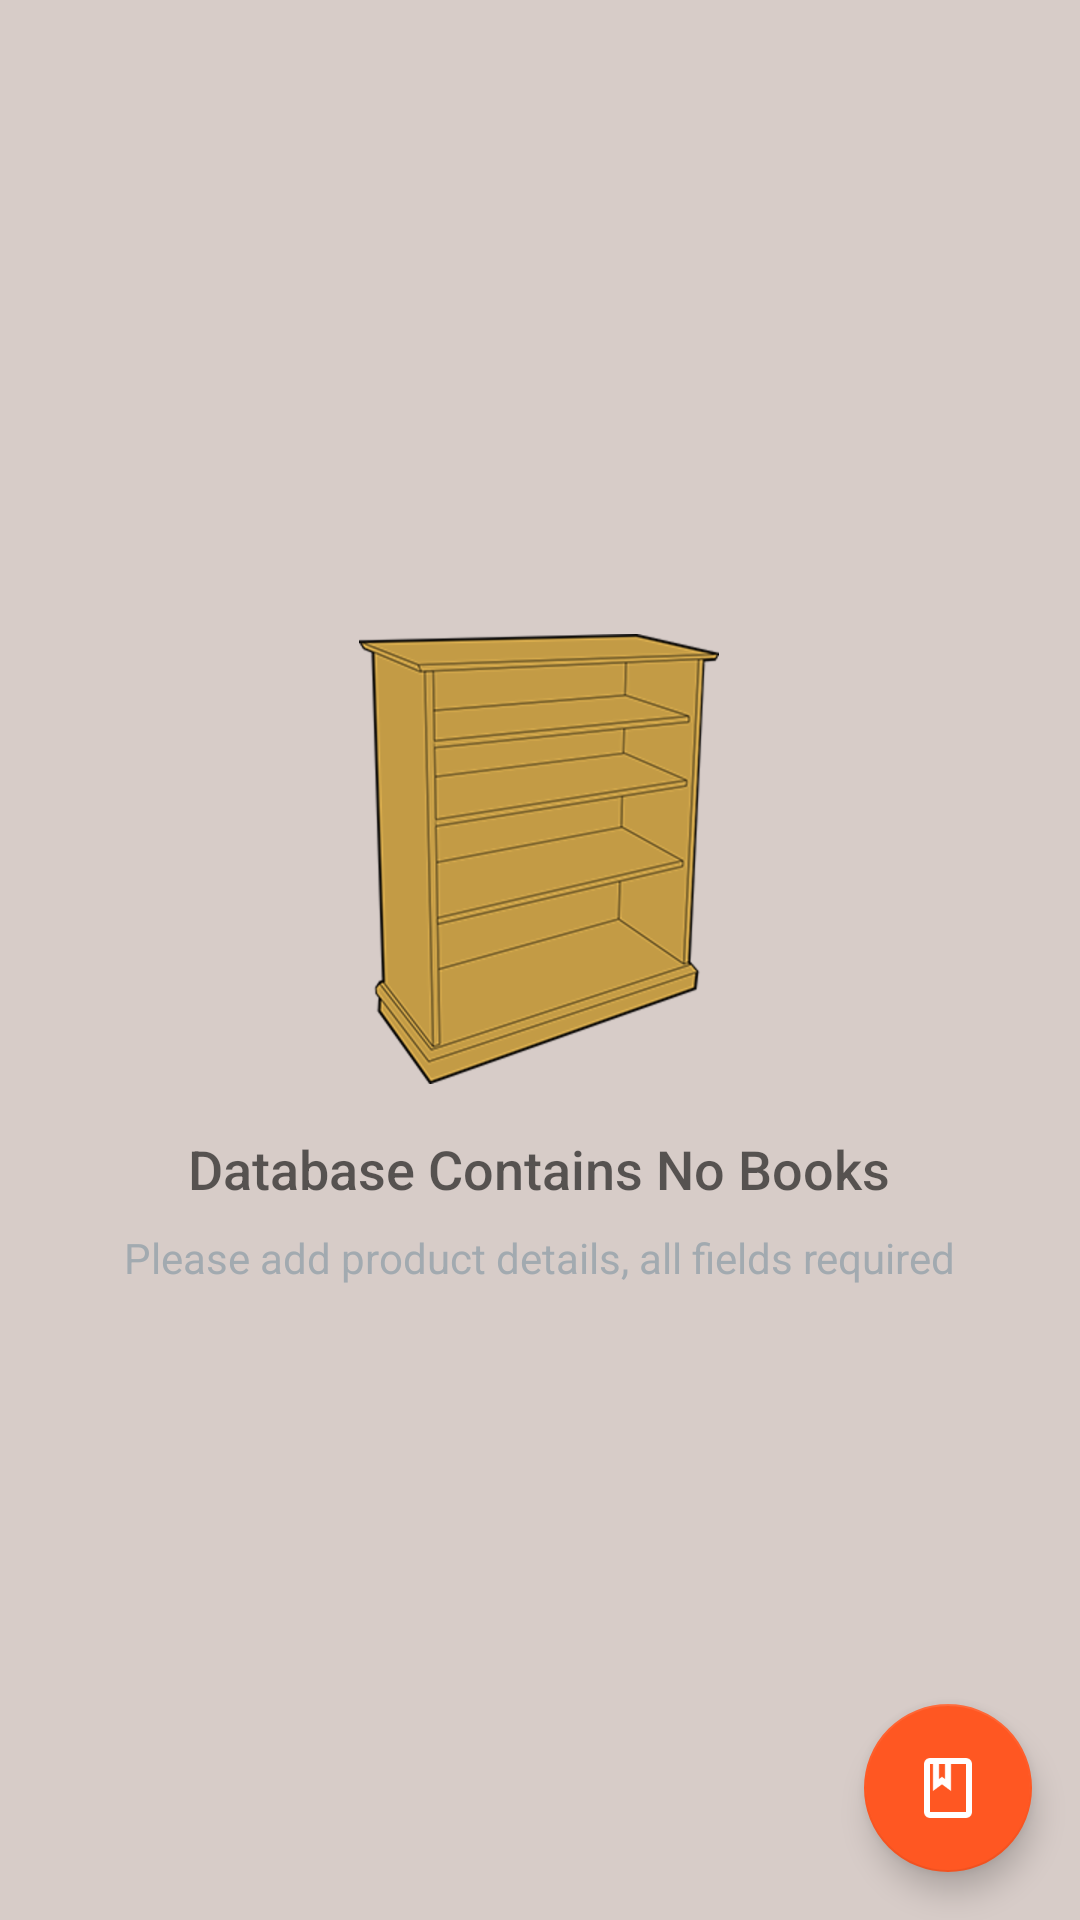

Named icons in this screenshot (1080*1920) and their centers, point (x, y):
book: point (948, 1788)
